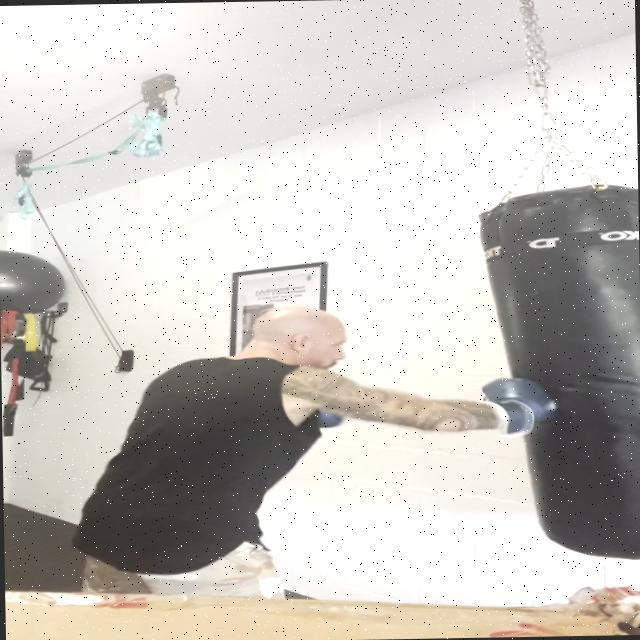punch: (133, 296, 562, 462)
